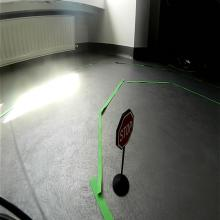stop: (115, 108, 135, 148)
